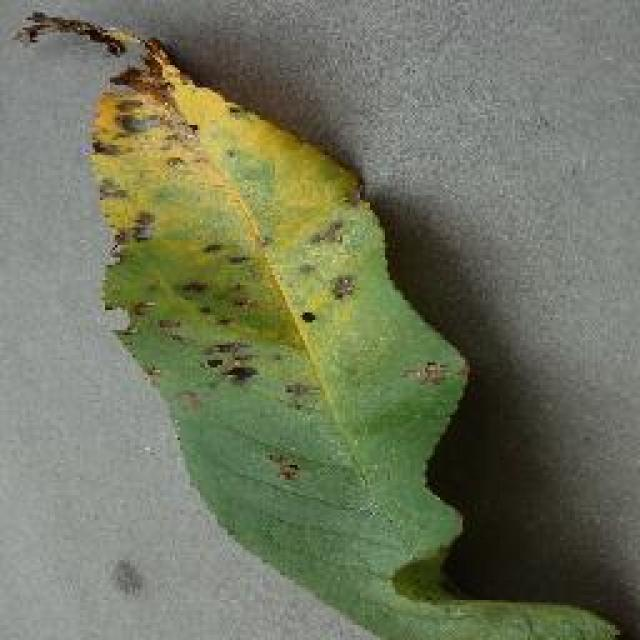Peach_Bacterial_Spot: (83, 12, 450, 463)
